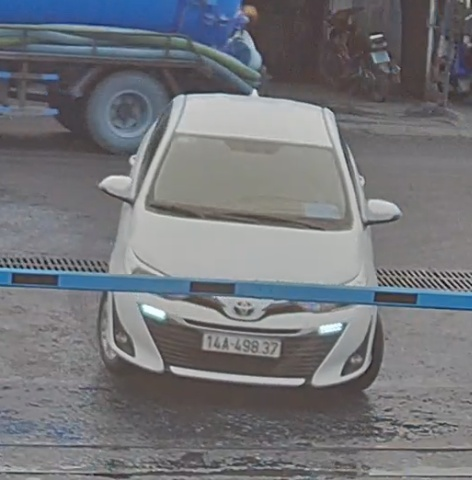vehicle plate: (199, 322, 284, 361)
